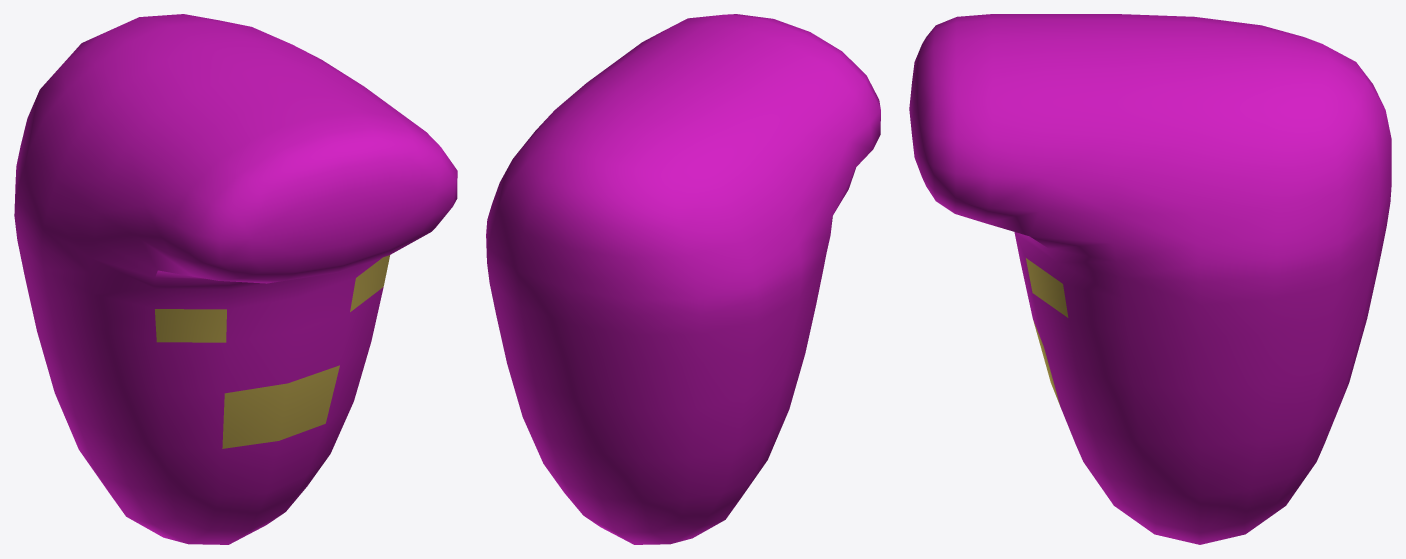
The model's file is monster_2.fbx.
3 views of the same model, side by side, from view 1: azimuth 30°, elevation 25°; view 2: azimuth 150°, elevation 25°; view 3: azimuth 270°, elevation 25° (orthographic). The views are drawn at different scales.
Visible parts, largest first — view 1: monster_2; view 2: monster_2; view 3: monster_2.
Part boxes in pixels (x1=…): monster_2: x1=14, y1=14, x2=457, y2=544; monster_2: x1=486, y1=14, x2=880, y2=544; monster_2: x1=909, y1=14, x2=1391, y2=544.
Size of the model in its own units: 130 by 188 by 165.
